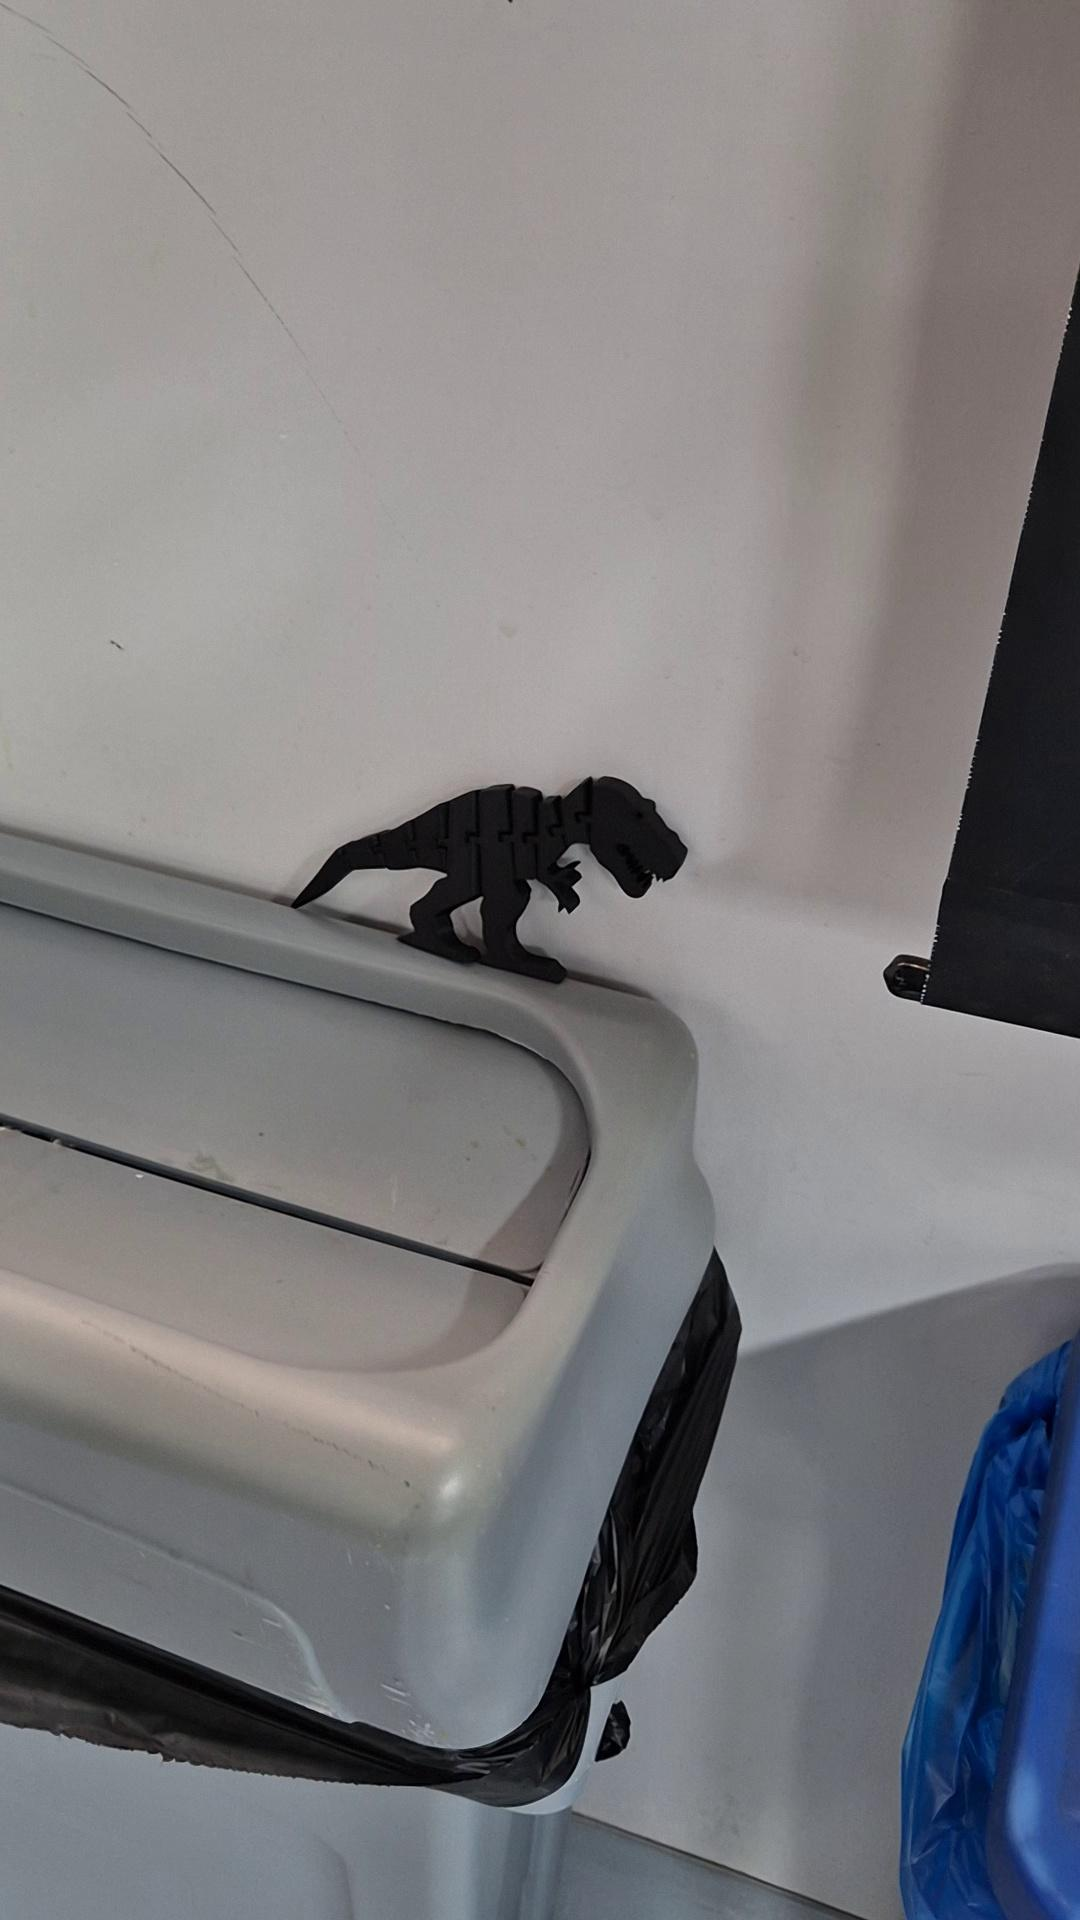dinosaur: (289, 774, 690, 985)
